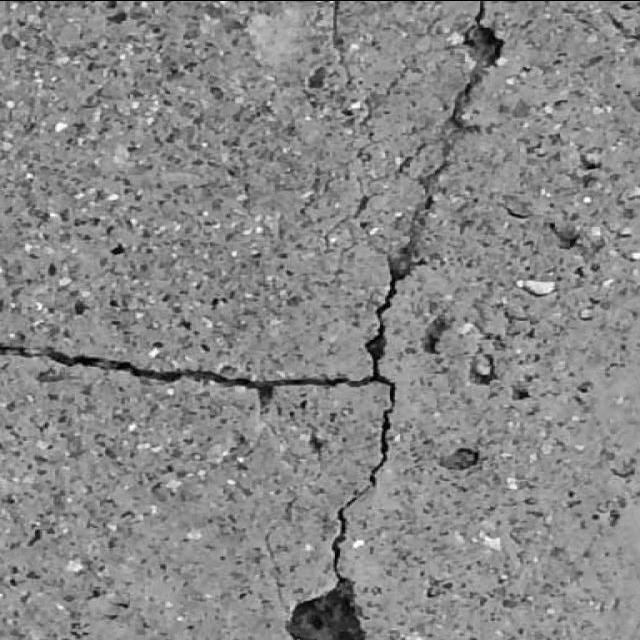SurfaceCrack: (0, 61, 618, 511)
